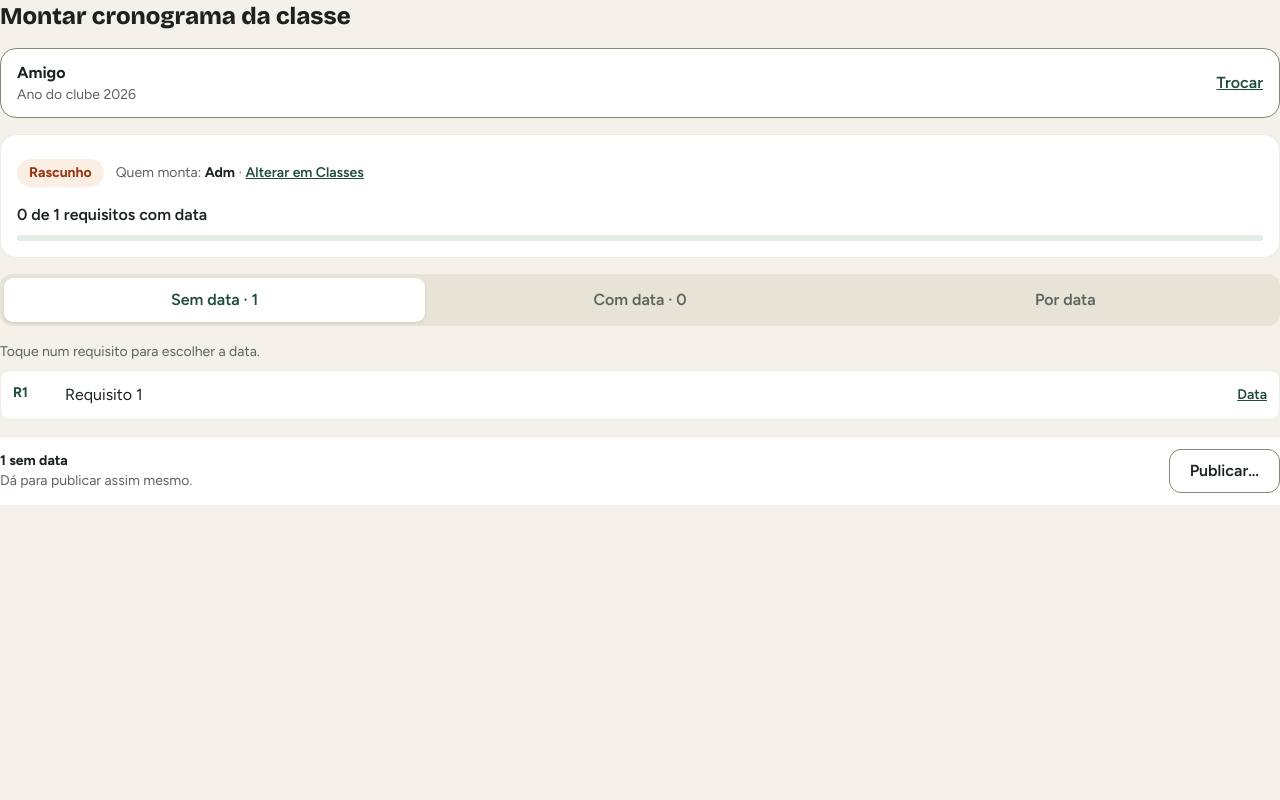
Test: A7 celular · folha sem data para escolher › todas as datas escondidas: diz que nenhuma aceita e a caixa continua para mostrar as recusadas
This screenshot has width=1280, height=800.
Expected: the text "0 de 1 requisitos com data" is shown, [17,205,207,224]
Click the button "R1 Requisito 1 Data": {"x": 104, "y": 394} [0,370,1279,420]
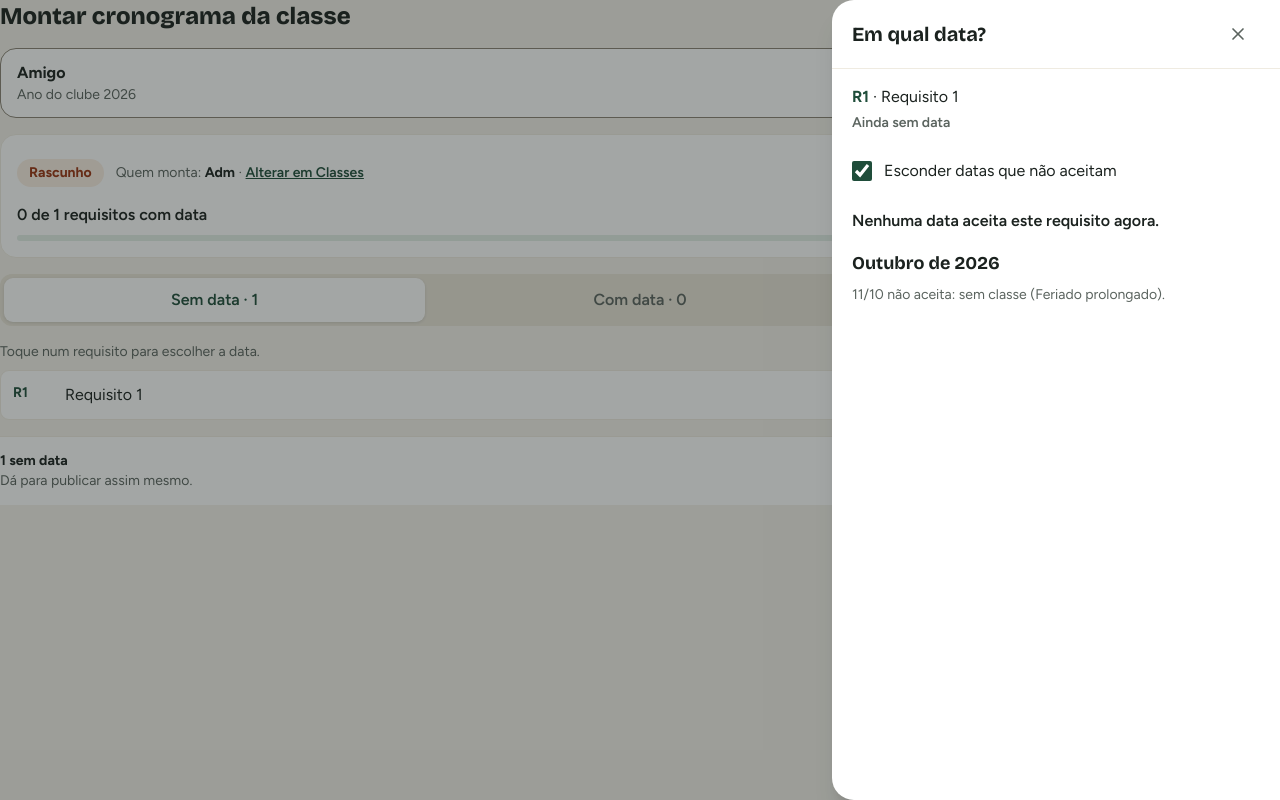
Expected: the text "Nenhuma data aceita este requisito agora." is shown, [852,211,1159,230]
Expected: the dialog "Em qual data?" shows "11/10 não aceita: sem classe (Feriado prolongado).", [852,286,1165,303]
Click the checkbox labelled "Esconder datas que não aceitam": {"x": 862, "y": 171} [852,161,872,181]
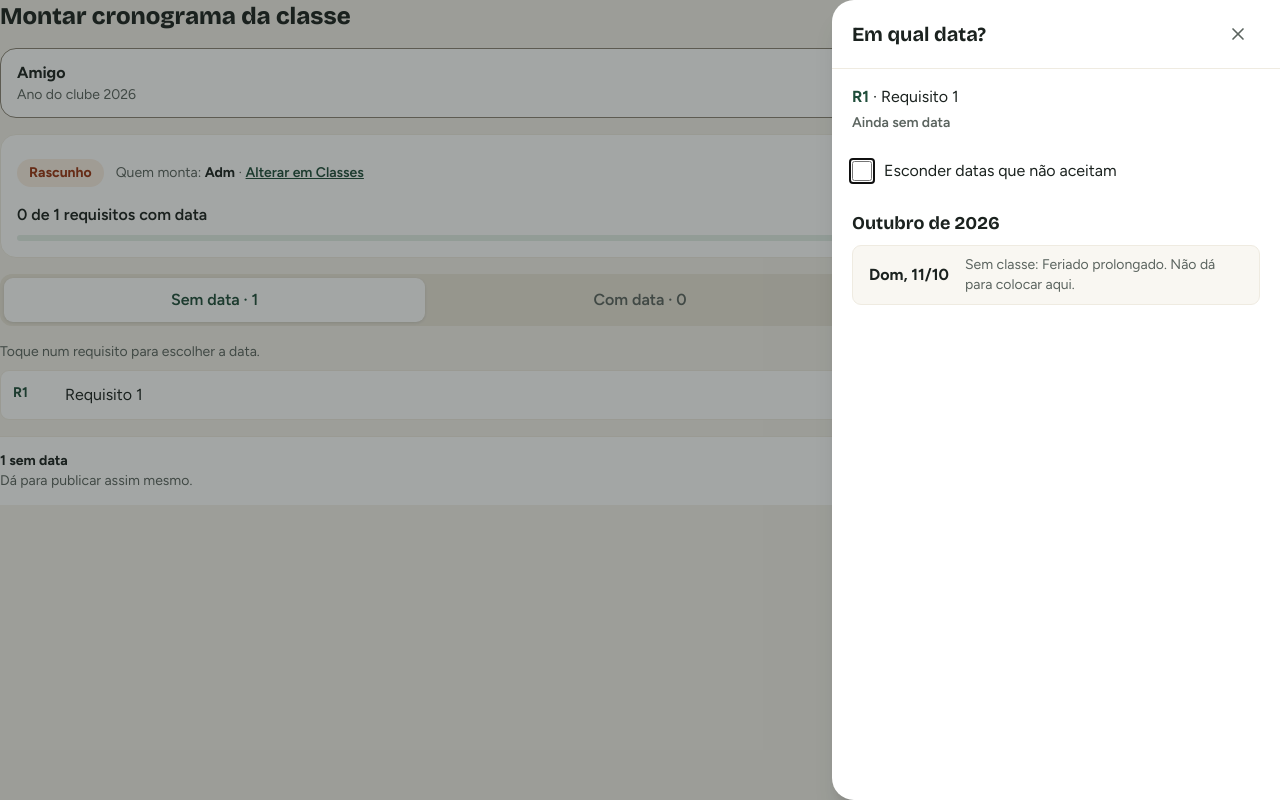
Expected: the button "11/10" is disabled, [852,245,1260,305]
Expected: the text "Nenhuma data aceita este requisito agora." is gone
